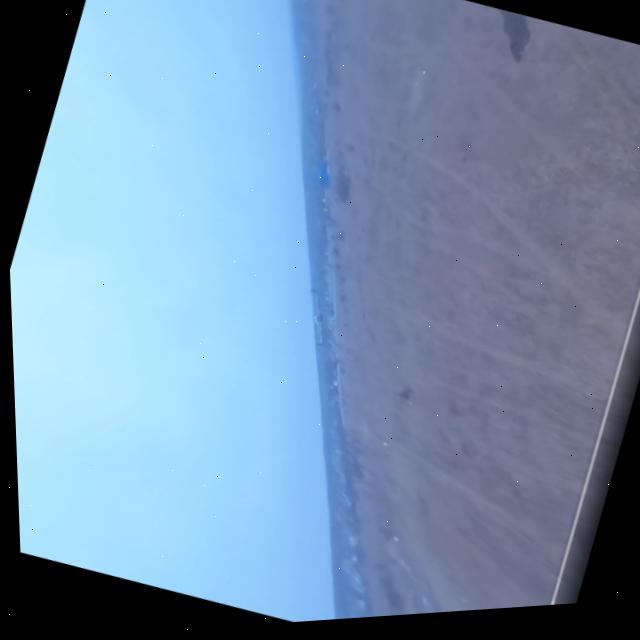planedrone: (293, 283, 343, 351)
